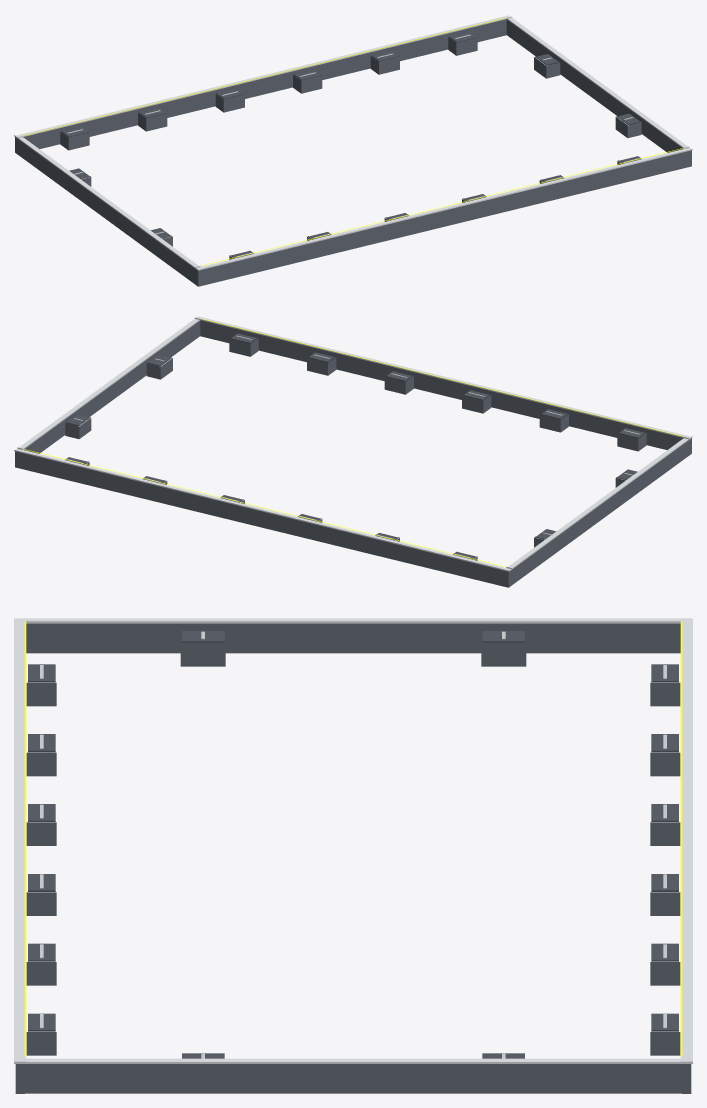
File: ext_roof_parapet_plantcap.glb
3 views of the same model, one above another, from view 1: azimuth 30°, elevation 25°; view 2: azimuth 150°, elevation 25°; view 3: azimuth 270°, elevation 25° (orthographic). The views are drawn at different scales.
Parts seen in each view (by area): view 1: Parapet_Long, Parapet_Short, Coping_Long, Plantcap_Housings, Coping_Short, Plantcap_Lids, Hazard_Edge; view 2: Parapet_Long, Parapet_Short, Coping_Long, Plantcap_Housings, Coping_Short, Plantcap_Lids, Hazard_Edge; view 3: Parapet_Short, Plantcap_Housings, Coping_Long, Coping_Short, Plantcap_Lids, Hazard_Edge, Plantcap_Vents.
Boxes of the visible parts, x1,y1,x2,y2 form: Parapet_Long: (15, 19, 691, 286); Parapet_Short: (17, 19, 683, 284); Coping_Long: (14, 15, 692, 270); Plantcap_Housings: (60, 37, 641, 259); Coping_Short: (17, 18, 689, 267); Plantcap_Lids: (61, 32, 641, 258); Hazard_Edge: (23, 18, 683, 265); Parapet_Long: (15, 320, 691, 587); Parapet_Short: (23, 320, 689, 585); Coping_Long: (14, 316, 692, 571); Plantcap_Housings: (65, 338, 646, 560); Coping_Short: (17, 319, 689, 568); Plantcap_Lids: (65, 333, 645, 559); Hazard_Edge: (23, 319, 683, 566); Parapet_Short: (24, 623, 682, 1093); Plantcap_Housings: (26, 643, 680, 1055); Coping_Long: (14, 618, 692, 1063); Coping_Short: (26, 618, 680, 1063); Plantcap_Lids: (28, 631, 678, 1058); Hazard_Edge: (24, 621, 682, 1056); Plantcap_Vents: (40, 631, 666, 1058).
Size of the model in its own units: 28.08 by 0.966 by 18.08.
